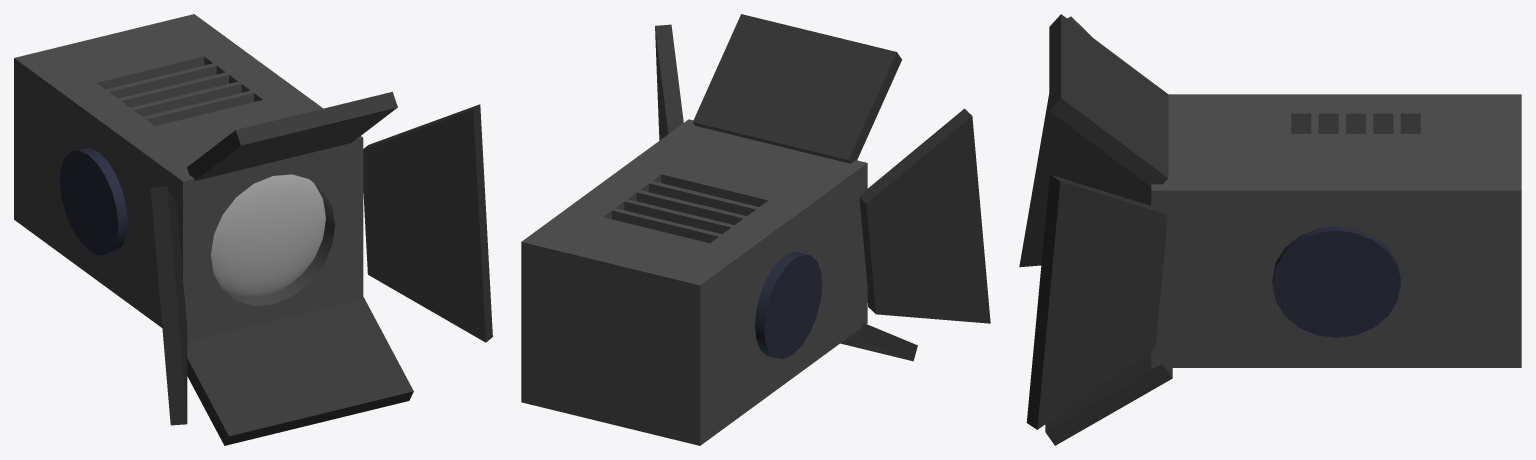
File: light.fbx
3 views of the same model, side by side, from view 1: azimuth 30°, elevation 25°; view 2: azimuth 150°, elevation 25°; view 3: azimuth 270°, elevation 25° (orthographic). The views are drawn at different scales.
Visible parts, largest first — view 1: pCube40, pCube33, pCube34, pSphere2, pCube31, pCube32, pCylinder45; view 2: pCube40, pCube32, pCube31, pCylinder45, pCube33, pCube34; view 3: pCube40, pCube33, pCube31, pCylinder46, pCube32, pCube34.
Boxes of the visible parts, x1,y1,x2,y2 form: pCube40: [14, 14, 363, 341]; pCube33: [363, 104, 492, 342]; pCube34: [187, 297, 413, 445]; pSphere2: [211, 174, 325, 297]; pCube31: [187, 92, 397, 180]; pCube32: [150, 186, 187, 425]; pCylinder45: [59, 147, 127, 255]; pCube40: [521, 119, 867, 445]; pCube32: [859, 108, 990, 323]; pCube31: [693, 14, 901, 163]; pCylinder45: [755, 252, 822, 358]; pCube33: [655, 24, 683, 140]; pCube34: [840, 323, 917, 361]; pCube40: [1151, 94, 1521, 367]; pCube33: [1026, 174, 1167, 429]; pCube31: [1049, 14, 1168, 186]; pCylinder46: [1272, 226, 1400, 337]; pCube32: [1019, 16, 1151, 267]; pCube34: [1045, 350, 1172, 445].
Bounding box in the file's own units: 1.81 × 1.65 × 2.2.
